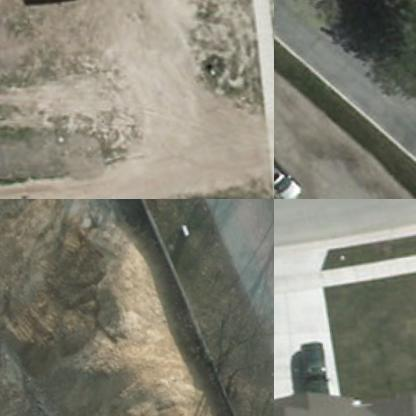car: (274, 130, 311, 198), (301, 336, 334, 404)
